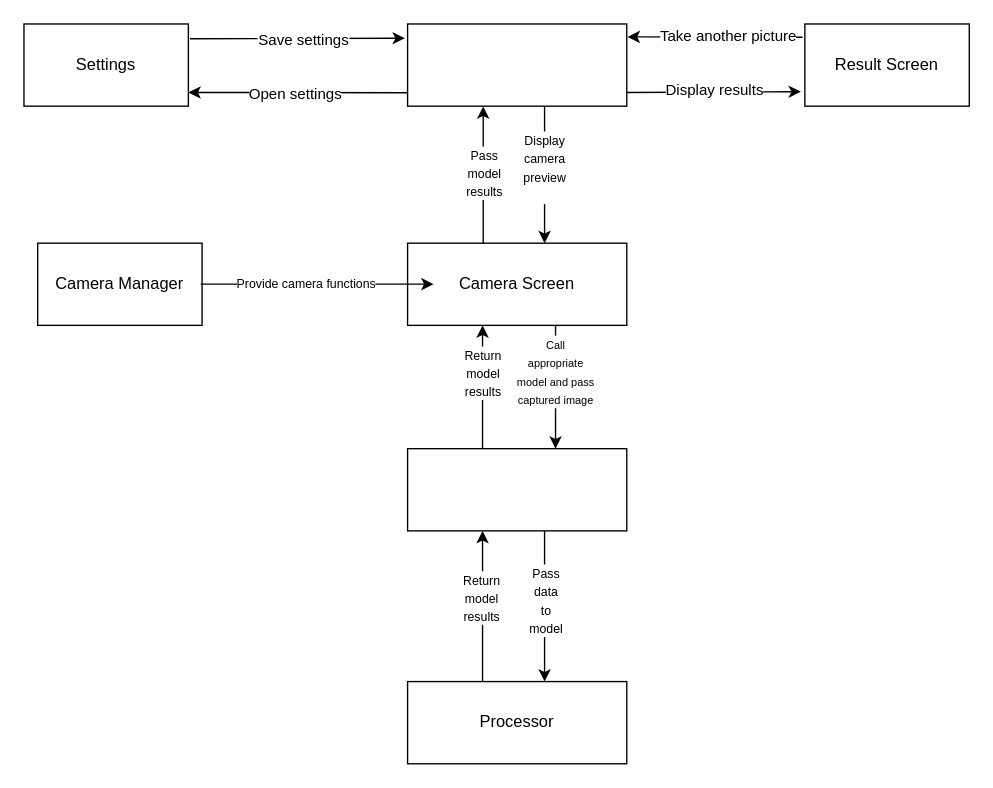
This 993x788 diagram has some shape labels left out. The shapes that lost their labels are listed below. From the top down, each one's box as (x1, y1, x2, y2) in pixels, then its label:
(406, 23, 627, 106): Main Activity
(406, 447, 627, 531): ML Kit Manager
